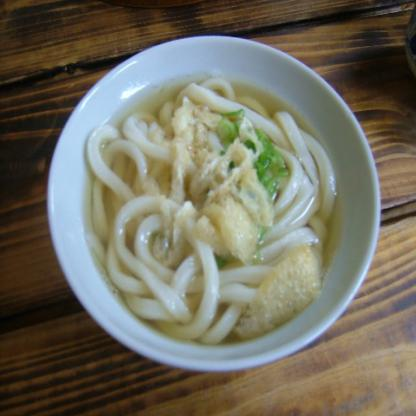Noodles: (86, 76, 340, 343)
